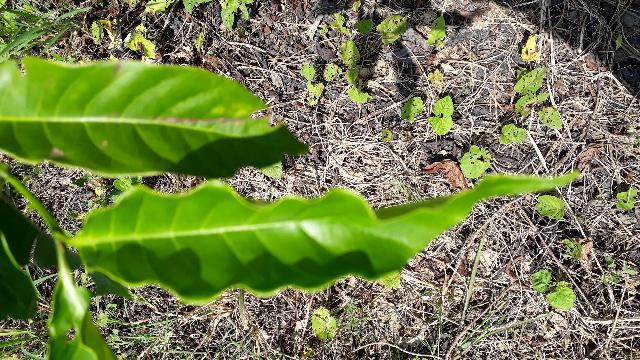healthy: (81, 174, 576, 305)
